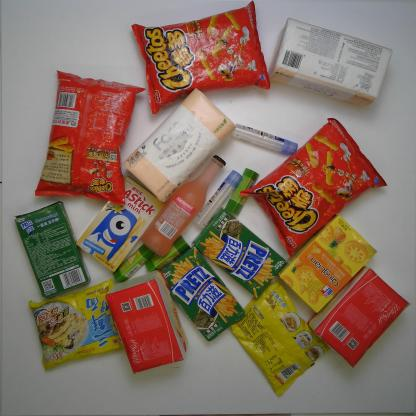Alcohol: (142, 154, 226, 257)
Dessert: (280, 214, 378, 310), (76, 176, 167, 274), (194, 206, 288, 300), (155, 247, 245, 341), (15, 199, 89, 299)
Instant Noodles: (230, 277, 333, 398), (30, 282, 128, 374)
Puffed Food: (242, 116, 386, 257), (130, 1, 270, 115), (34, 71, 144, 206)
Stationery: (194, 170, 242, 231), (232, 121, 298, 156), (112, 241, 156, 282), (145, 236, 190, 275), (223, 168, 259, 216)
Tissue: (122, 88, 234, 202), (269, 16, 394, 102), (304, 266, 411, 364), (105, 270, 190, 375)
